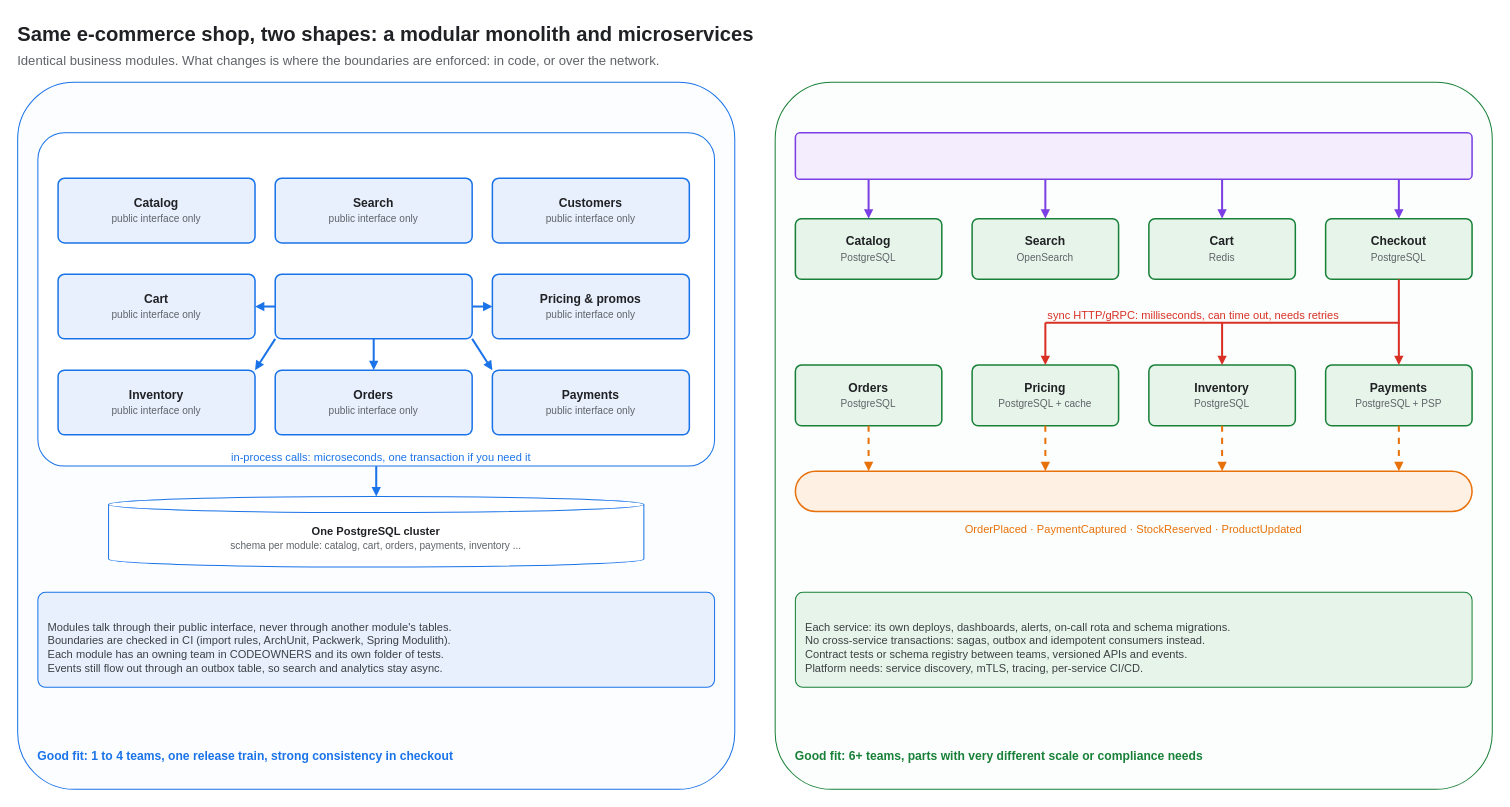
Image size: 1510x807. Some labels were removed from this diagram. The shapes that lost their labels are listed below. From the top down, each one's box as (x1, y1, x2, y2) in pixels, then its label:
(794, 132, 1472, 180): API gateway auth, rate limits, routing
(274, 273, 472, 339): Checkout public interface only
(37, 132, 715, 466): shop-app (one process, scaled to N identical replicas)
(17, 81, 735, 789): Modular monolith one repo, one pipeline, one deployable
(774, 81, 1492, 789): Microservices one repo or folder, pipeline, on-call and datastore per service
(794, 470, 1472, 512): Event bus (Kafka, Pub/Sub, Service Bus, EventBridge)
(37, 591, 715, 687): Rules that keep it modular
(794, 591, 1472, 687): What you sign up for
